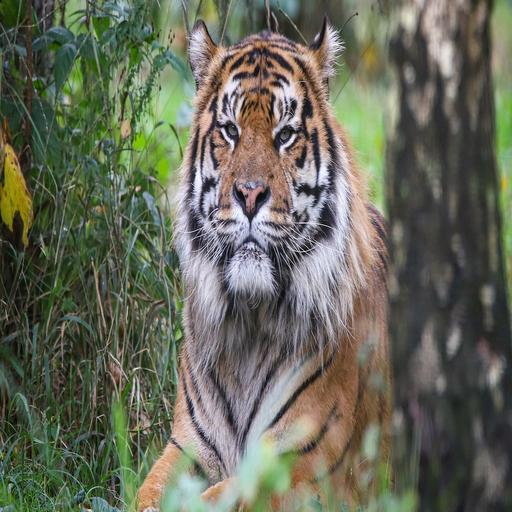Tiger: (131, 17, 477, 512)
